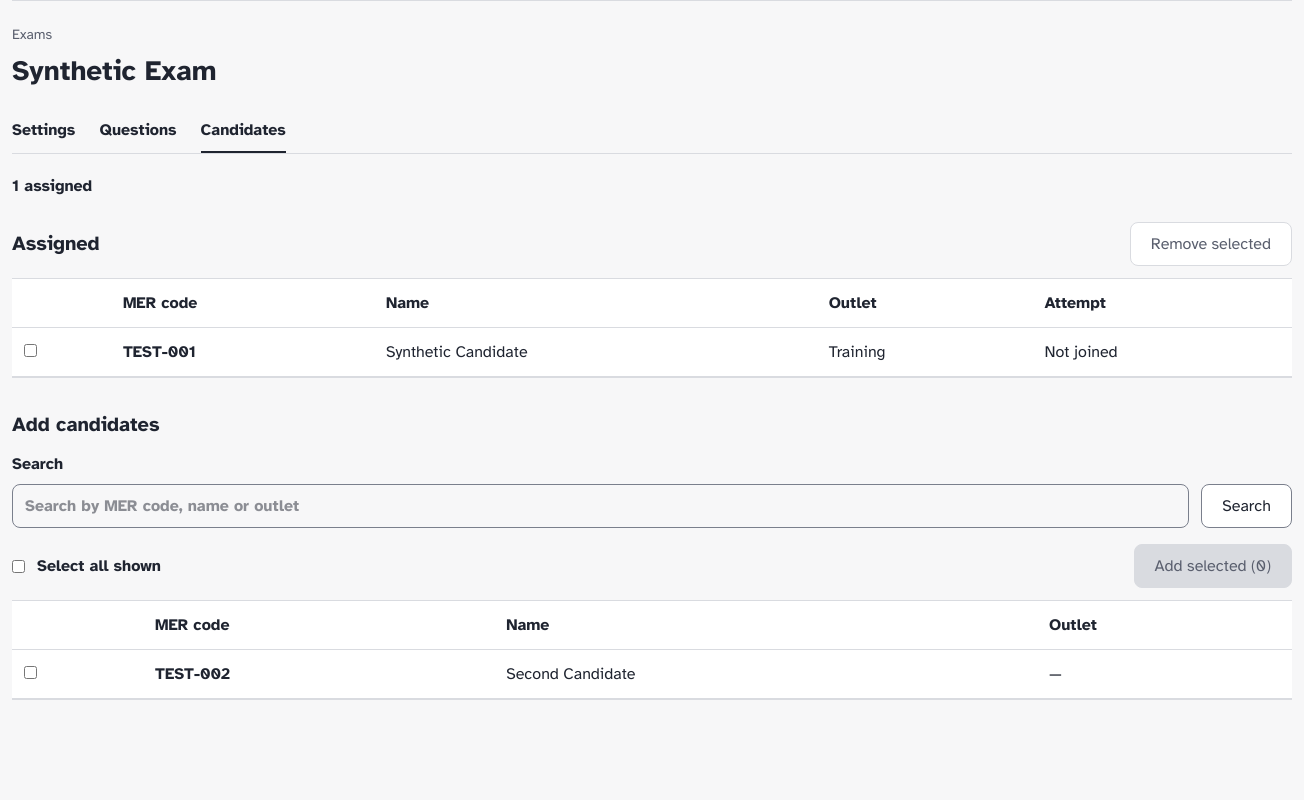
Test: ExamCandidates › shows a failed remove request as a persistent toast
The image size is (1304, 800).
Click the checkbox named "Select assigned TEST-001": x=30, y=350 [24,344,37,357]
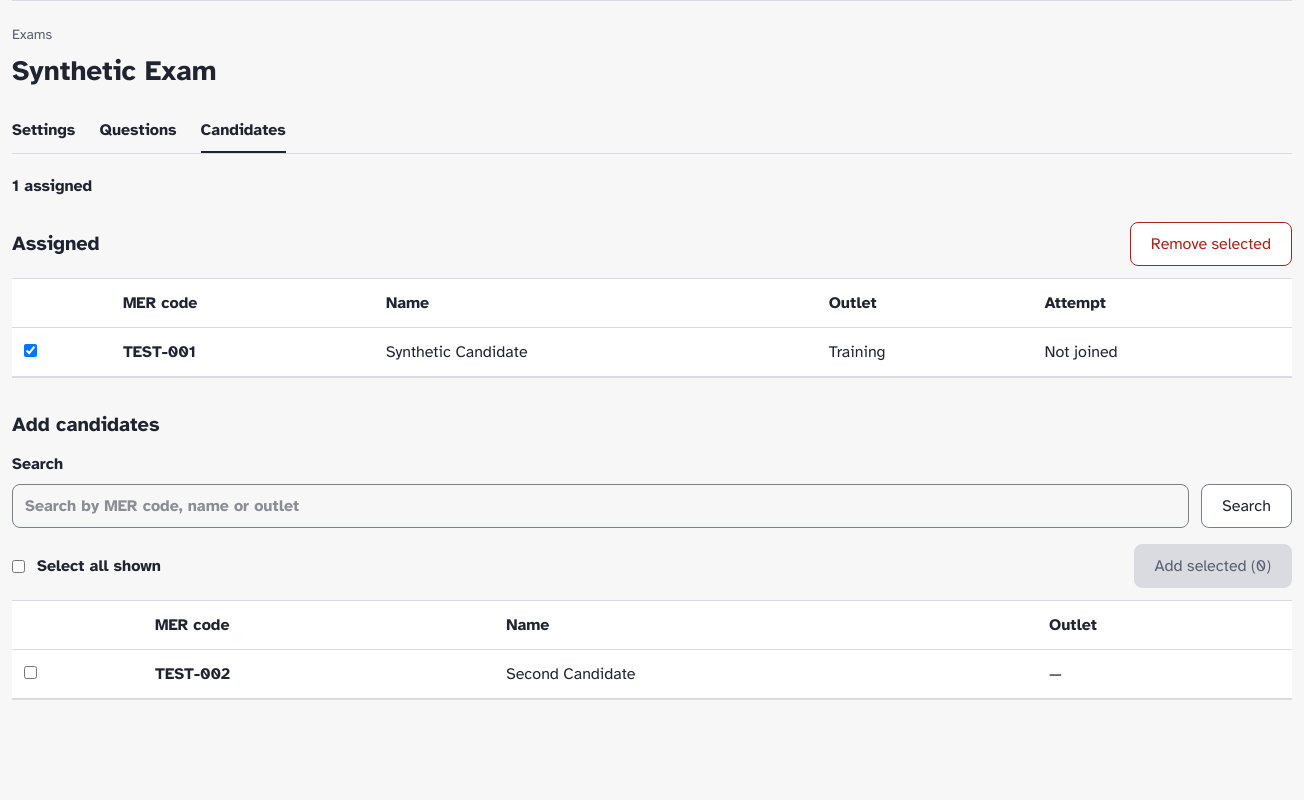
Click the button "Remove selected": x=1211, y=244 [1130,222,1292,266]
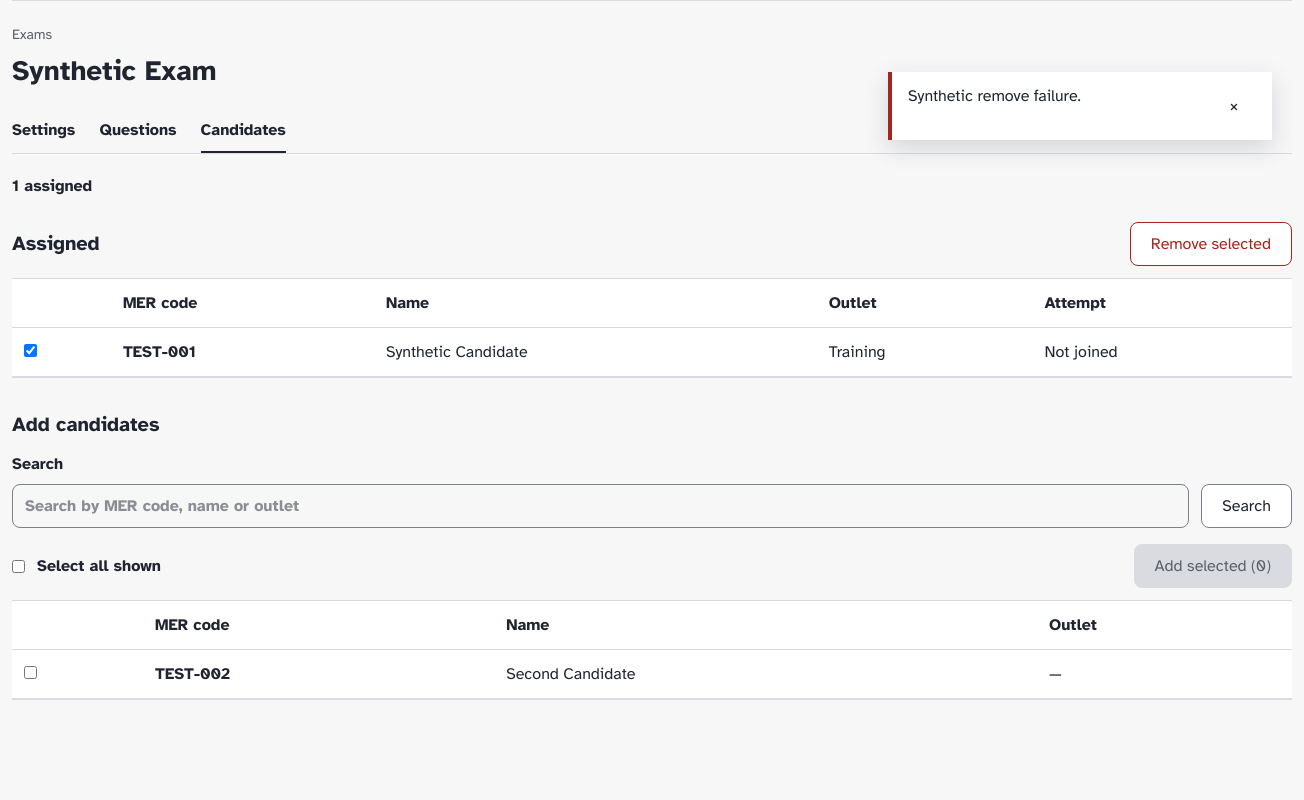
Expected: the text "Synthetic remove failure." is shown, [908,84,1081,108]
